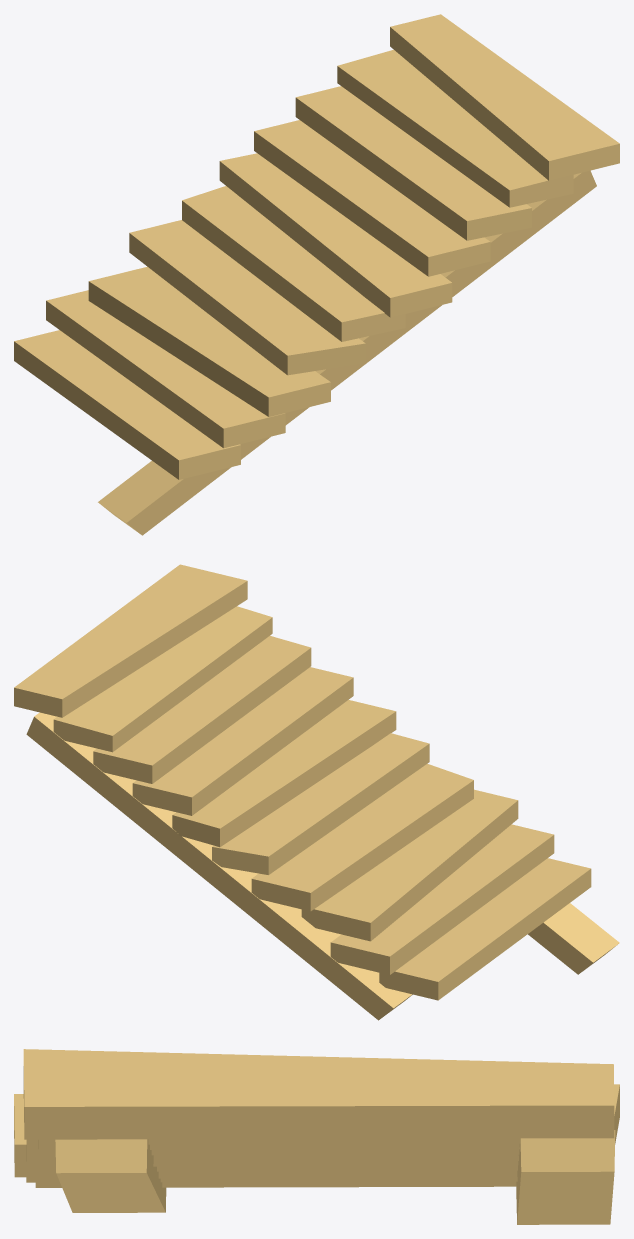
The model's file is stair004.fbx.
The picture shows the model from 3 angles, top to bottom: view 1: azimuth 30°, elevation 25°; view 2: azimuth 150°, elevation 25°; view 3: azimuth 270°, elevation 25°; orthographic projection. The views are drawn at different scales.
Parts seen in each view (by area): view 1: MERDIVEN; view 2: MERDIVEN; view 3: MERDIVEN.
Boxes of the visible parts, bbox=[...] form: MERDIVEN: bbox=[14, 14, 619, 535]; MERDIVEN: bbox=[14, 564, 619, 1020]; MERDIVEN: bbox=[14, 1049, 619, 1224].
Size of the model in its own units: 954 by 551 by 628.
